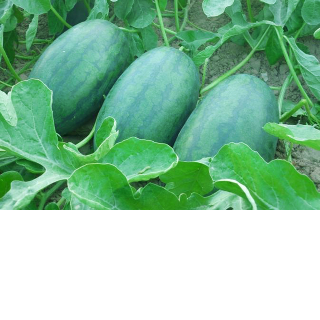dua_hau: (19, 18, 135, 147), (167, 71, 283, 196), (91, 46, 197, 172)
